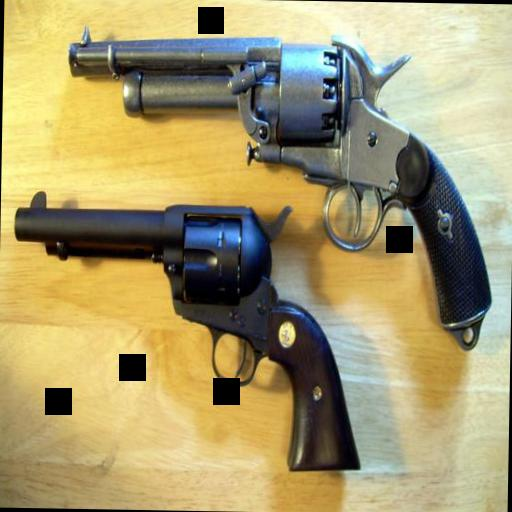Handgun: (56, 18, 505, 354), (4, 185, 367, 481)
